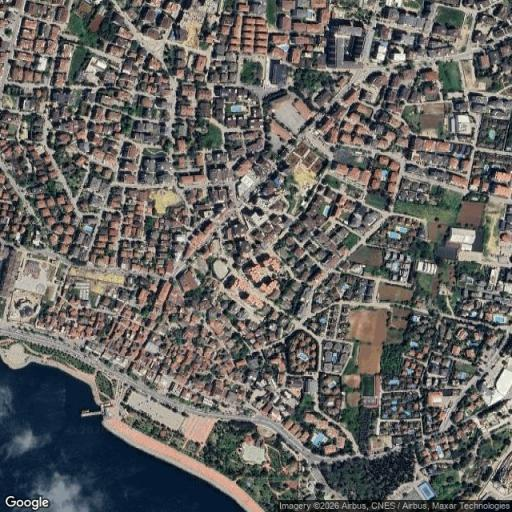ship: (82, 409, 90, 414)
